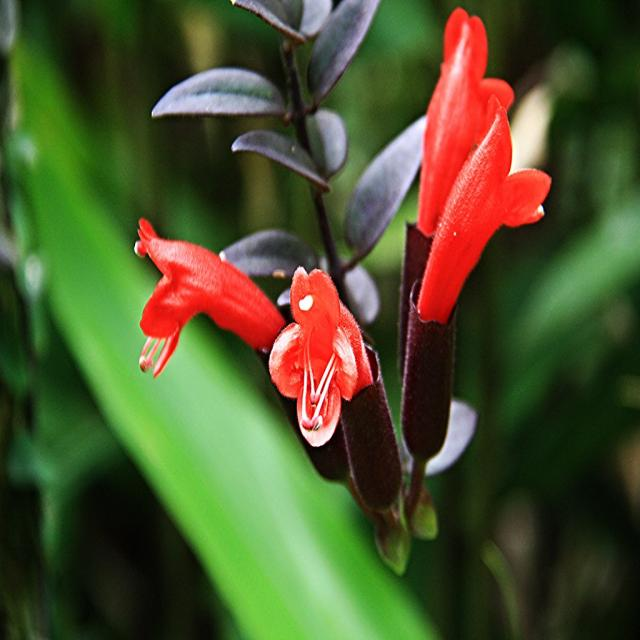Lipstick-Plant: (136, 0, 552, 544)
